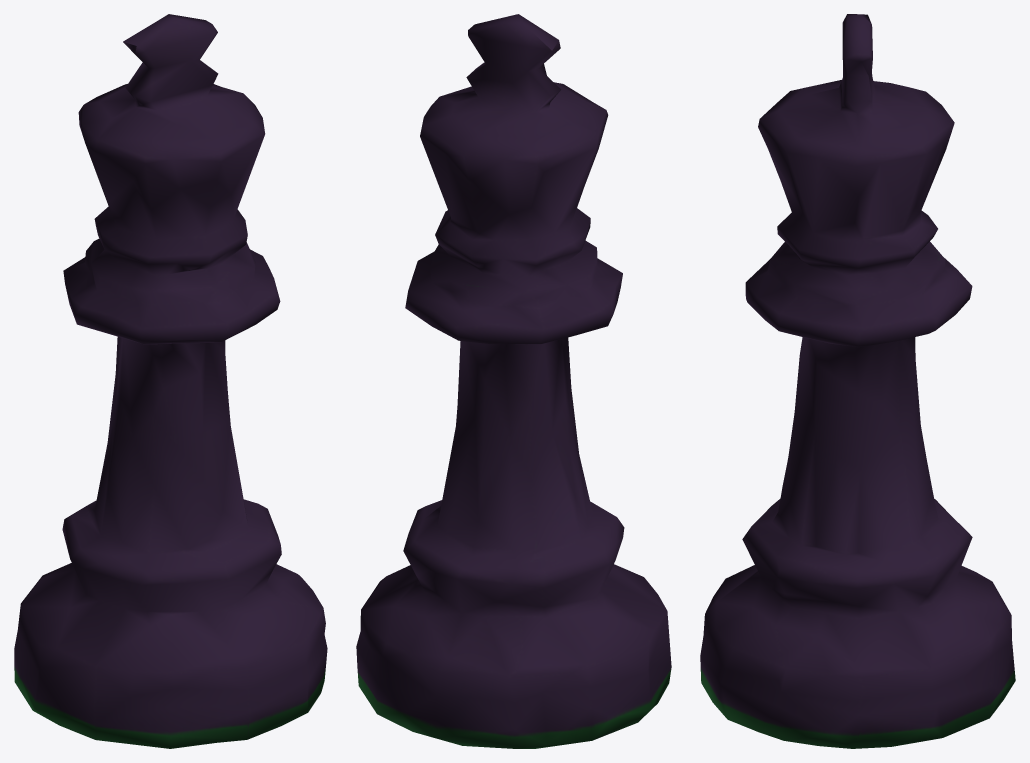
Rendered from chess-queen-black.glb.
3 renders of one model, left to right at view 1: azimuth 30°, elevation 25°; view 2: azimuth 150°, elevation 25°; view 3: azimuth 270°, elevation 25°, orthographic.
Parts seen in each view (by area): view 1: geometry_0.001; view 2: geometry_0.001; view 3: geometry_0.001.
Part boxes in pixels (x1=…): geometry_0.001: x1=14, y1=14, x2=327, y2=748; geometry_0.001: x1=356, y1=14, x2=671, y2=748; geometry_0.001: x1=700, y1=14, x2=1015, y2=748.
Bounding box in the file's own units: 0.4252 × 1 × 0.4269.
Materials: 1 (1 with a texture image).
